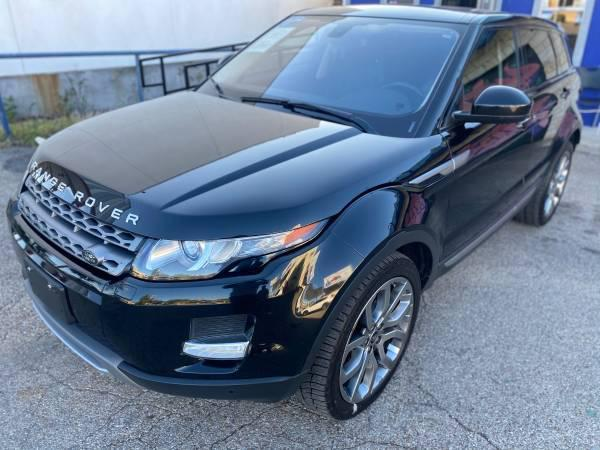Front_Bumper: (4, 196, 366, 402)
Front_Fender: (333, 134, 446, 262)
Front_Left_Door: (438, 99, 527, 279)
Front_Left_Window: (448, 24, 523, 135)
Front_Windshield: (204, 8, 480, 129)
Grille: (15, 174, 159, 278)
Hood: (30, 85, 441, 233)
Left_Headlight: (135, 211, 341, 274)
Rear_Left_Door: (524, 77, 572, 205)
Rear_Left_Window: (513, 25, 564, 91)
Roof: (289, 7, 557, 132)
Wheel: (296, 251, 421, 419), (533, 144, 573, 222)
